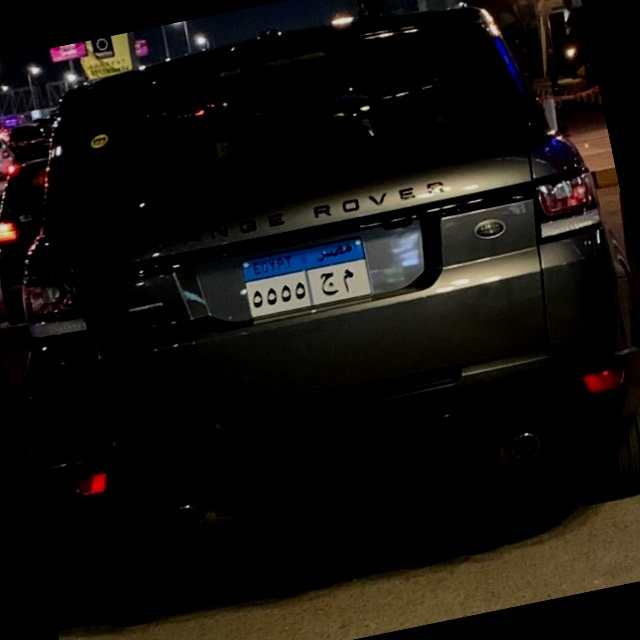License Plate: (237, 234, 374, 320)
